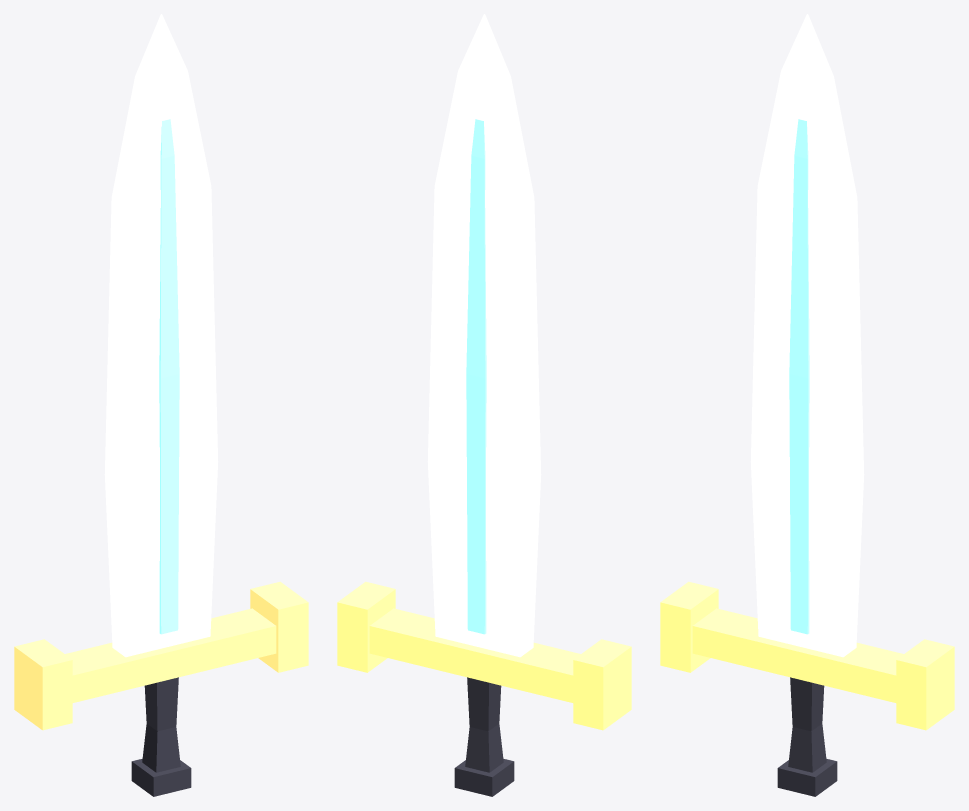
Rendered from sword.glb.
3 views of the same model, side by side, from view 1: azimuth 30°, elevation 25°; view 2: azimuth 150°, elevation 25°; view 3: azimuth 330°, elevation 25° (orthographic).
Visible parts, largest first — view 1: blade, guard, core, hilt; view 2: blade, guard, core, hilt; view 3: blade, guard, core, hilt.
Part boxes in pixels (box(x1,y1,x2,y2)): blade: box(104, 14, 218, 657); guard: box(14, 581, 308, 730); core: box(159, 119, 179, 634); hilt: box(131, 677, 191, 796); blade: box(427, 14, 541, 657); guard: box(337, 581, 631, 730); core: box(466, 119, 486, 634); hilt: box(454, 677, 514, 796); blade: box(750, 14, 864, 657); guard: box(660, 581, 954, 730); core: box(789, 119, 809, 634); hilt: box(777, 677, 837, 796).
Bounding box in the file's own units: 28.2 × 78 × 5.2.
